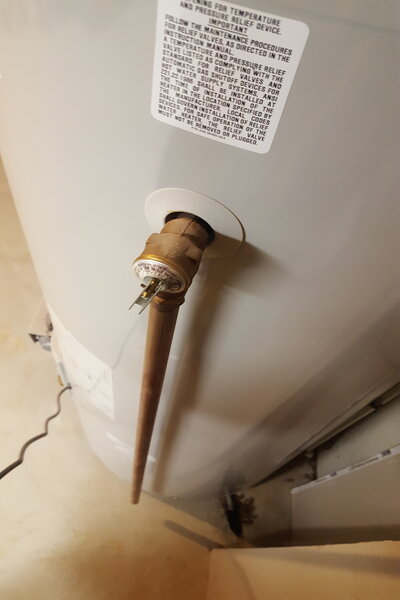valve: (133, 214, 206, 331)
